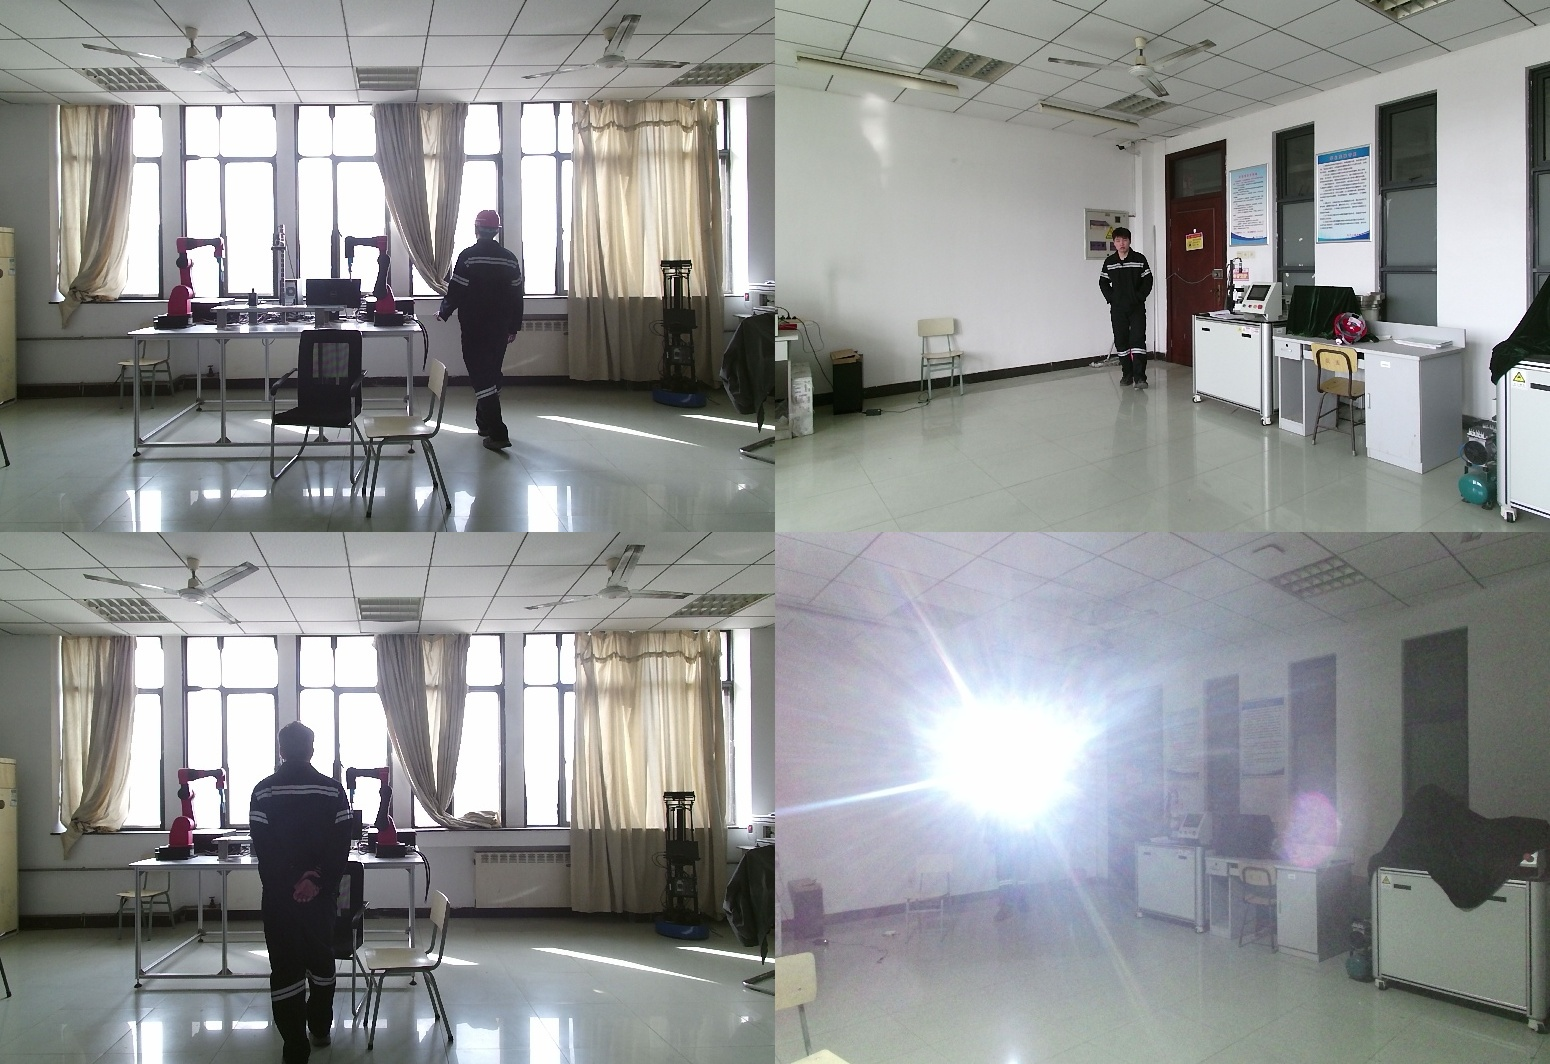person: (246, 724, 355, 1064), (439, 207, 529, 455), (1097, 229, 1158, 391), (984, 759, 1041, 924)
